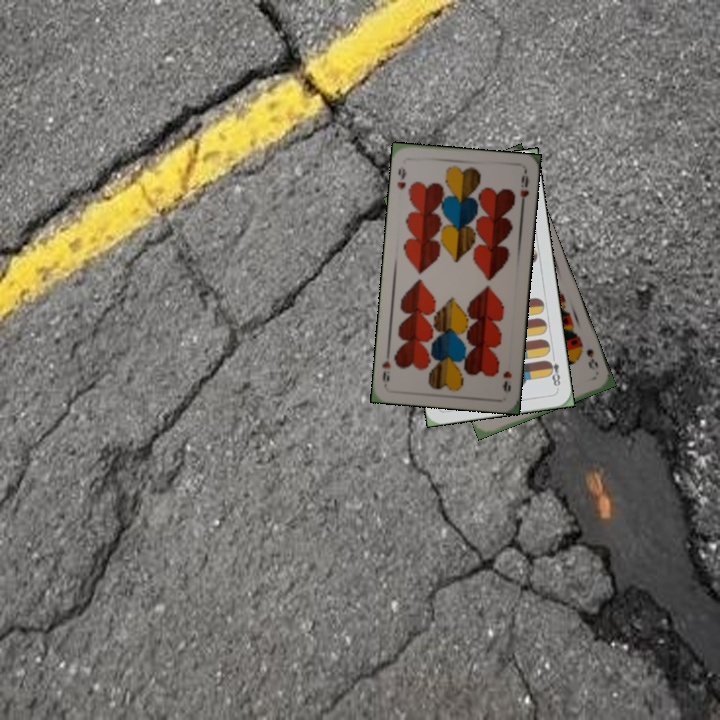E8: (543, 351, 563, 392)
H9: (498, 367, 514, 396), (393, 163, 409, 192)
S9: (575, 338, 601, 372)
